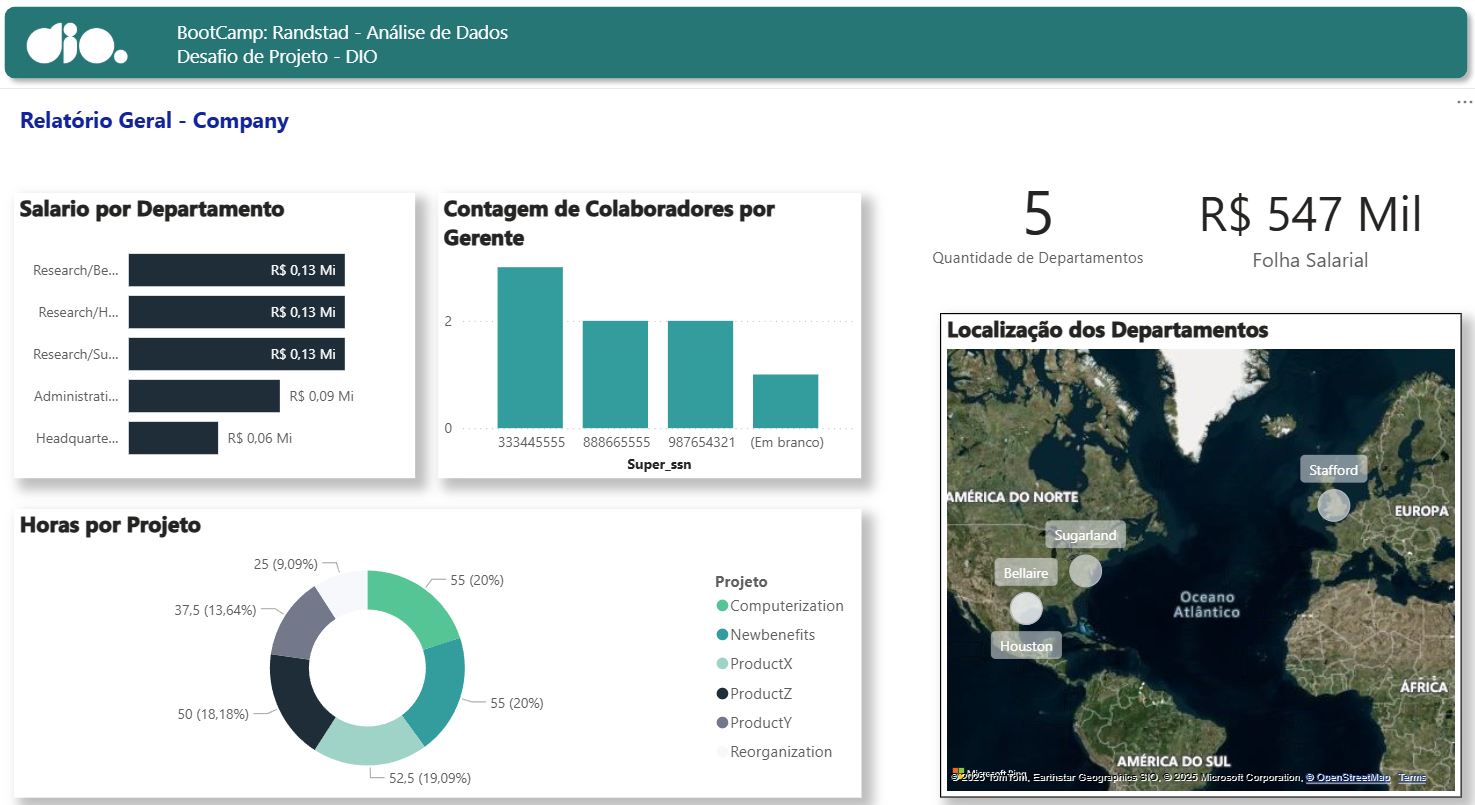

The dashboard page shown, as its layout file describes it:
{"tool":"powerbi","page":{"name":"Página 1","canvas":[1280,720],"ordinal":0},"visuals":[{"type":"columnChart","title":"Contagem de Colaboradores por Gerente","fields":{"Category":["Departamento e Colaboradores.Super_ssn"],"Y":["Departamento e Colaboradores.Ssn"]},"box":[383,169.9,364.9,245.8],"z":0},{"type":"clusteredBarChart","title":"Salario por Departamento","fields":{"Category":["Departamento e Colaboradores.departament.Dname / Location"],"Y":["Departamento e Colaboradores.Salary"]},"box":[17.3,169.9,345.9,245.8],"z":1000},{"type":"donutChart","title":"Horas por  Projeto","fields":{"Category":["project.Pname"],"Y":["works_on.Hours"]},"box":[17.3,442.5,730.6,249.3],"z":2000},{"type":"map","title":"Localização dos Departamentos","fields":{"Category":["Departamento e Colaboradores.departament.Dname / Location"]},"box":[816,273.4,450.2,418.3],"z":3000},{"type":"card","fields":{"Values":["departament.Dnumber"]},"box":[803,128.5,194.9,125.9],"z":4000},{"type":"card","fields":{"Values":["Departamento e Colaboradores.Salary"]},"box":[1004.9,134.6,261.3,125.9],"z":7000},{"type":"shape","box":[0,0,1280,80.2],"z":8000},{"type":"textbox","box":[152.7,14.7,435.6,51.8],"z":9000},{"type":"image","box":[17.3,18.1,109.5,44.9],"z":10000},{"type":"textbox","box":[17.3,88.8,251.9,39.7],"z":10001}]}

Visuals, with their boxes in screenshot pixels (x1, y1, x2, y2):
"Contagem de Colaboradores por Gerente" columnChart: x1=443 y1=195 x2=861 y2=476
"Salario por Departamento" clusteredBarChart: x1=24 y1=195 x2=420 y2=476
"Horas por  Projeto" donutChart: x1=24 y1=507 x2=861 y2=792
"Localização dos Departamentos" map: x1=939 y1=313 x2=1454 y2=792
card - departament.Dnumber: x1=924 y1=147 x2=1147 y2=291
card - Departamento e Colaboradores.Salary: x1=1155 y1=154 x2=1454 y2=298
shape: x1=4 y1=0 x2=1470 y2=92
textbox: x1=179 y1=17 x2=678 y2=76
image: x1=24 y1=21 x2=149 y2=72
textbox: x1=24 y1=102 x2=312 y2=147
